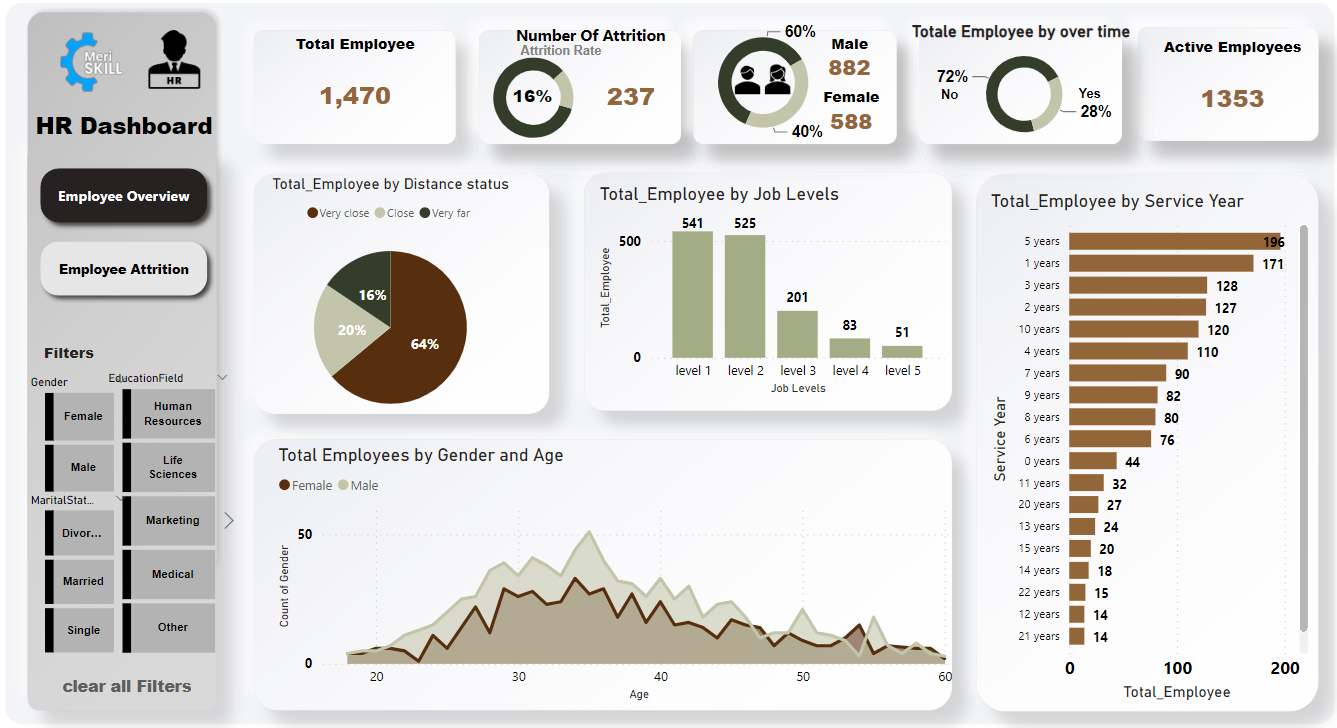

The dashboard page shown, as its layout file describes it:
{"tool":"powerbi","page":{"name":"Employee Overview","canvas":[1320,730],"ordinal":0},"visuals":[{"type":"card","title":"      Total Employee","fields":{"Values":["All Measures.Total_Employee"]},"box":[298.6,60,180,100],"z":0},{"type":"donutChart","title":"Totale Employee by  over time","fields":{"Category":["HR-Employee-Attrition.OverTime"],"Y":["All Measures.Total_Employee"]},"box":[912.5,48.8,211.2,115],"z":1000},{"type":"barChart","fields":{"Category":["HR-Employee-Attrition.Service Year"],"Y":["All Measures.Total_Employee"]},"box":[982.9,207.1,308.6,485.7],"z":2000},{"type":"columnChart","fields":{"Y":["All Measures.Total_Employee"],"Category":["HR-Employee-Attrition.Job Levels"]},"box":[613.8,200,335,205],"z":3000},{"type":"pieChart","fields":{"Category":["HR-Employee-Attrition.Distance status"],"Y":["All Measures.Total_Employee"]},"box":[252.9,192.9,338.6,242.9],"z":4000},{"type":"card","fields":{"Values":["All Measures.attrition"]},"box":[591.2,83.8,113.8,72.5],"z":5000},{"type":"donutChart","fields":{"Category":["HR-Employee-Attrition.Attrition"],"Y":["All Measures.Total_Employee"]},"box":[491.4,68.6,130,104.3],"z":6000},{"type":"card","title":"      Total Employee","fields":{"Values":["All Measures.%attrition"]},"box":[515,91.2,81.2,57.5],"z":7000},{"type":"areaChart","title":"Total Employees by Gender and Age","fields":{"Category":["HR-Employee-Attrition.Age"],"Series":["HR-Employee-Attrition.Gender"],"Y":["CountNonNull(HR-Employee-Attrition.Gender)"]},"box":[311.4,445.7,647.1,247.1],"z":8000},{"type":"textbox","box":[524.7,46.3,171.4,40],"z":9000},{"type":"card","title":"      Male","fields":{"Values":["All Measures.Male"]},"box":[820.1,59.6,68.6,44.3],"z":10000},{"type":"card","title":"      Female","fields":{"Values":["All Measures.Female"]},"box":[818.7,109.6,74.3,50],"z":11000},{"type":"donutChart","fields":{"Category":["HR-Employee-Attrition.Gender"],"Y":["All Measures.Total_Employee"]},"box":[692.5,47.5,160,117.5],"z":12000},{"type":"image","box":[733,81,50,45.7],"z":13000},{"type":"image","box":[758.7,81,54.3,45.7],"z":14000},{"type":"textbox","box":[511,61.4,143.8,36.2],"z":15000},{"type":"card","title":"Active Employees","fields":{"Values":["All Measures.activeemp"]},"box":[1124.3,62.9,180,100],"z":16000},{"type":"image","box":[185,51.2,67.5,65],"z":17000},{"type":"textbox","box":[78.8,126.2,185,43.8],"z":18000},{"type":"slicer","fields":{"Values":["HR-Employee-Attrition.EducationField"]},"box":[143.8,373.5,137.5,276.2],"z":19000},{"type":"slicer","fields":{"Values":["HR-Employee-Attrition.Gender"]},"box":[70,376,115,121.2],"z":20000},{"type":"slicer","fields":{"Values":["HR-Employee-Attrition.MaritalStatus"]},"box":[70,487.2,115,162.5],"z":21000},{"type":"image","box":[88.8,32.5,108.8,107.5],"z":22000},{"type":"actionButton","box":[95,652.5,157.5,41.2],"z":23000},{"type":"textbox","box":[78.6,346,81.4,34.3],"z":24000},{"type":"pageNavigator","box":[83.8,177.5,175,137.5],"z":25000},{"type":"textbox","box":[1048.8,101.2,63.8,33.8],"z":27000},{"type":"textbox","box":[916.2,102.5,63.8,33.8],"z":27001}]}

Visuals, with their boxes in screenshot pixels (x1, y1, x2, y2), scaled from the page's 1320x730 canvas onto the 1337x728 screenshot:
"      Total Employee" card: crop(302, 60, 485, 160)
"Totale Employee by  over time" donutChart: crop(924, 49, 1138, 163)
barChart - HR-Employee-Attrition.Service Year x All Measures.Total_Employee: crop(996, 207, 1308, 691)
columnChart - All Measures.Total_Employee x HR-Employee-Attrition.Job Levels: crop(622, 199, 961, 404)
pieChart - HR-Employee-Attrition.Distance status x All Measures.Total_Employee: crop(256, 192, 599, 435)
card - All Measures.attrition: crop(599, 84, 714, 156)
donutChart - HR-Employee-Attrition.Attrition x All Measures.Total_Employee: crop(498, 68, 629, 172)
"      Total Employee" card: crop(522, 91, 604, 148)
"Total Employees by Gender and Age" areaChart: crop(315, 444, 971, 691)
textbox: crop(531, 46, 705, 86)
"      Male" card: crop(831, 59, 900, 104)
"      Female" card: crop(829, 109, 905, 159)
donutChart - HR-Employee-Attrition.Gender x All Measures.Total_Employee: crop(701, 47, 863, 165)
image: crop(742, 81, 793, 126)
image: crop(768, 81, 823, 126)
textbox: crop(518, 61, 663, 97)
"Active Employees" card: crop(1139, 63, 1321, 162)
image: crop(187, 51, 256, 116)
textbox: crop(80, 126, 267, 170)
slicer - HR-Employee-Attrition.EducationField: crop(146, 372, 285, 648)
slicer - HR-Employee-Attrition.Gender: crop(71, 375, 187, 496)
slicer - HR-Employee-Attrition.MaritalStatus: crop(71, 486, 187, 648)
image: crop(90, 32, 200, 140)
actionButton: crop(96, 651, 256, 692)
textbox: crop(80, 345, 162, 379)
pageNavigator: crop(85, 177, 262, 314)
textbox: crop(1062, 101, 1127, 135)
textbox: crop(928, 102, 993, 136)
